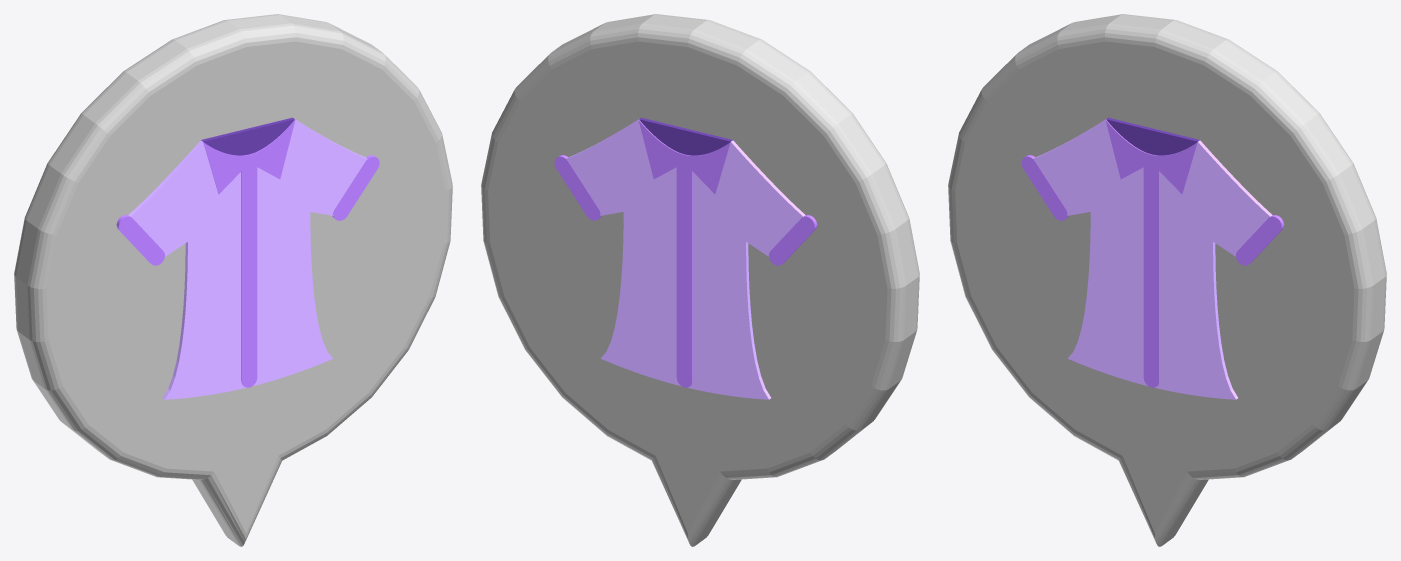
File: womans_clothes.glb
3 views of the same model, side by side, from view 1: azimuth 30°, elevation 25°; view 2: azimuth 150°, elevation 25°; view 3: azimuth 330°, elevation 25° (orthographic).
Visible parts, largest first — view 1: EmotionBubble; view 2: EmotionBubble; view 3: EmotionBubble.
Boxes of the visible parts, x1,y1,x2,y2 form: EmotionBubble: (14, 14, 452, 546); EmotionBubble: (481, 14, 919, 546); EmotionBubble: (948, 14, 1386, 546).
Bounding box in the file's own units: 5.29 × 6.16 × 0.694.
